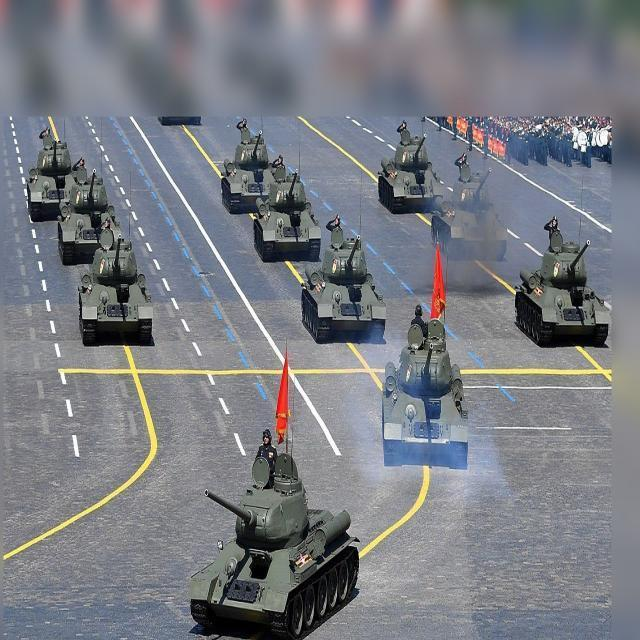Tanks: (188, 444, 362, 640), (378, 314, 469, 472), (514, 215, 610, 348), (292, 214, 387, 344), (432, 154, 508, 266), (76, 246, 156, 348), (221, 123, 301, 216), (250, 165, 322, 262), (54, 178, 122, 266), (378, 130, 446, 214), (26, 133, 90, 221)
